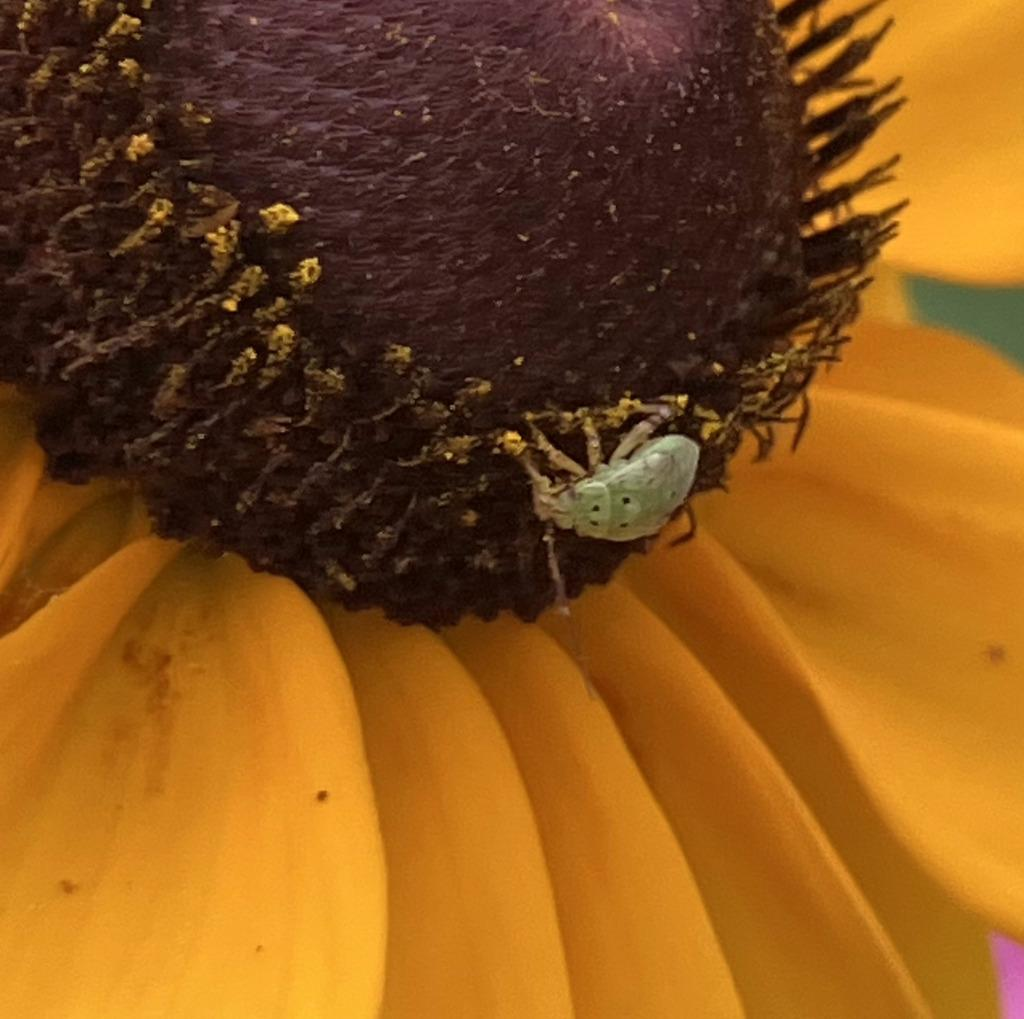plant_bugs: (482, 370, 747, 603)
